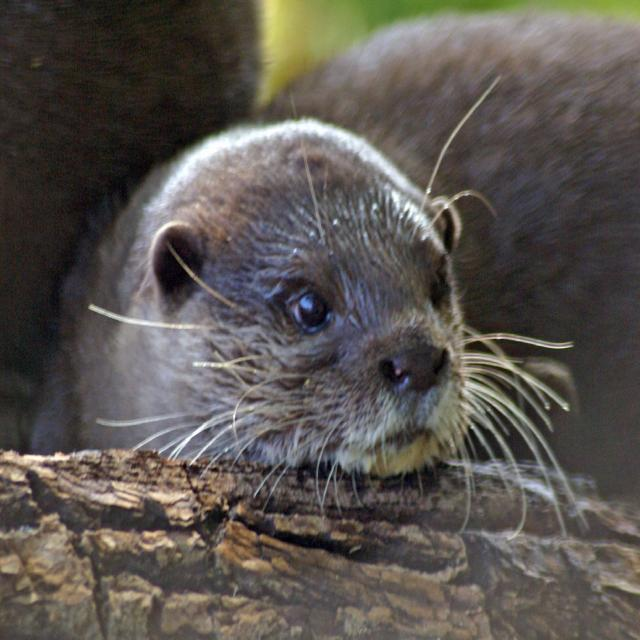otter: (79, 120, 470, 481)
